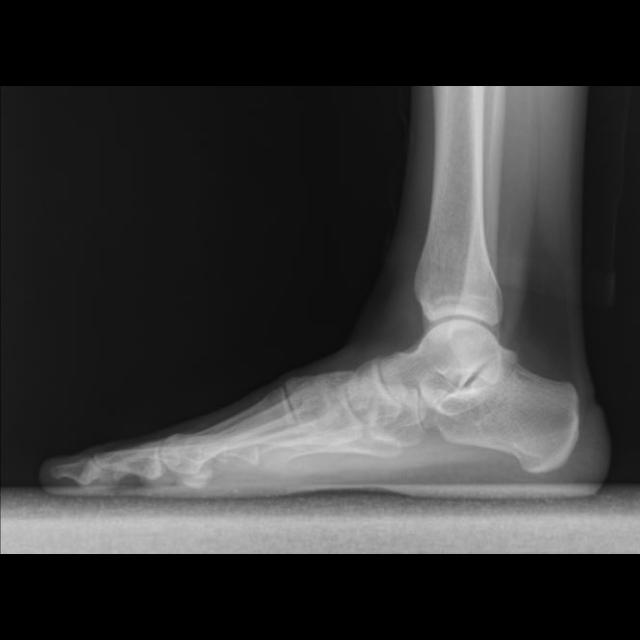a: (419, 330, 579, 473)
b: (351, 359, 400, 421)
c: (161, 386, 314, 491)
